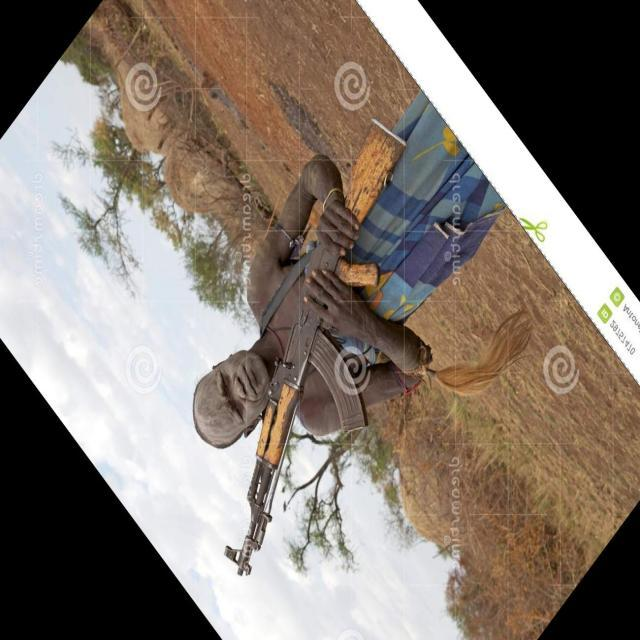weapon: (222, 115, 406, 578)
